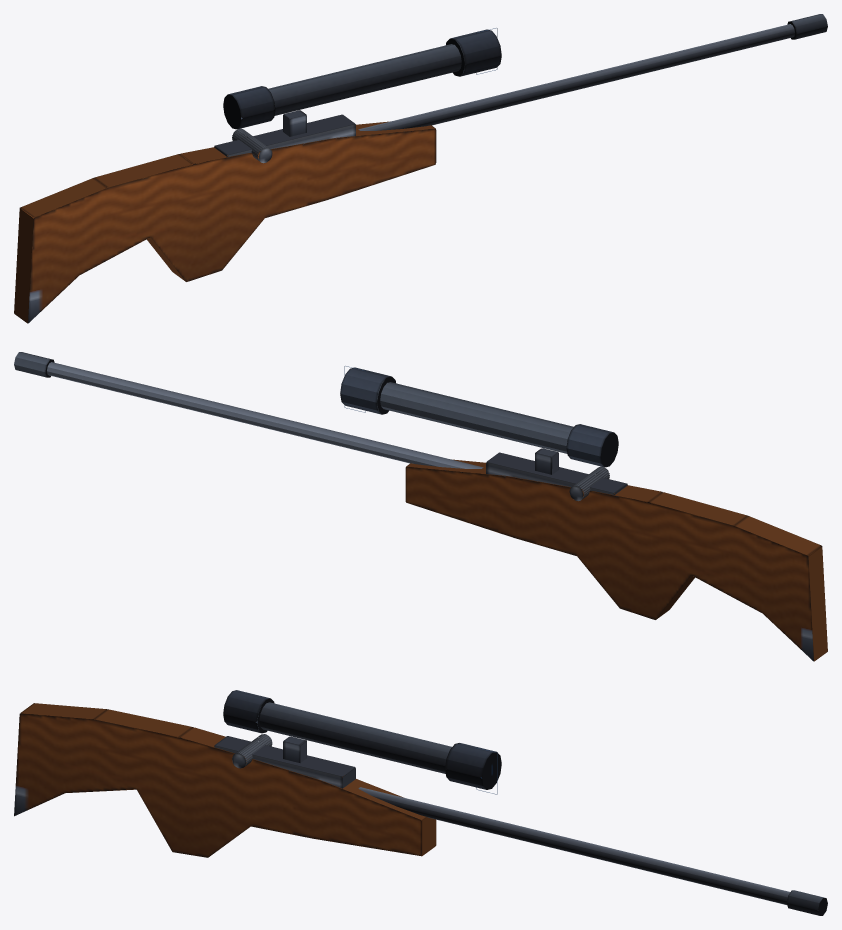
Rendered from sniper_model.obj.
The picture shows the model from 3 angles, top to bottom: view 1: azimuth 30°, elevation 25°; view 2: azimuth 150°, elevation 25°; view 3: azimuth 330°, elevation 25°; orthographic projection.
Bounding box in the file's own units: 56.2 × 11.7 × 3.2.
Materials: 1 (1 with a texture image).
